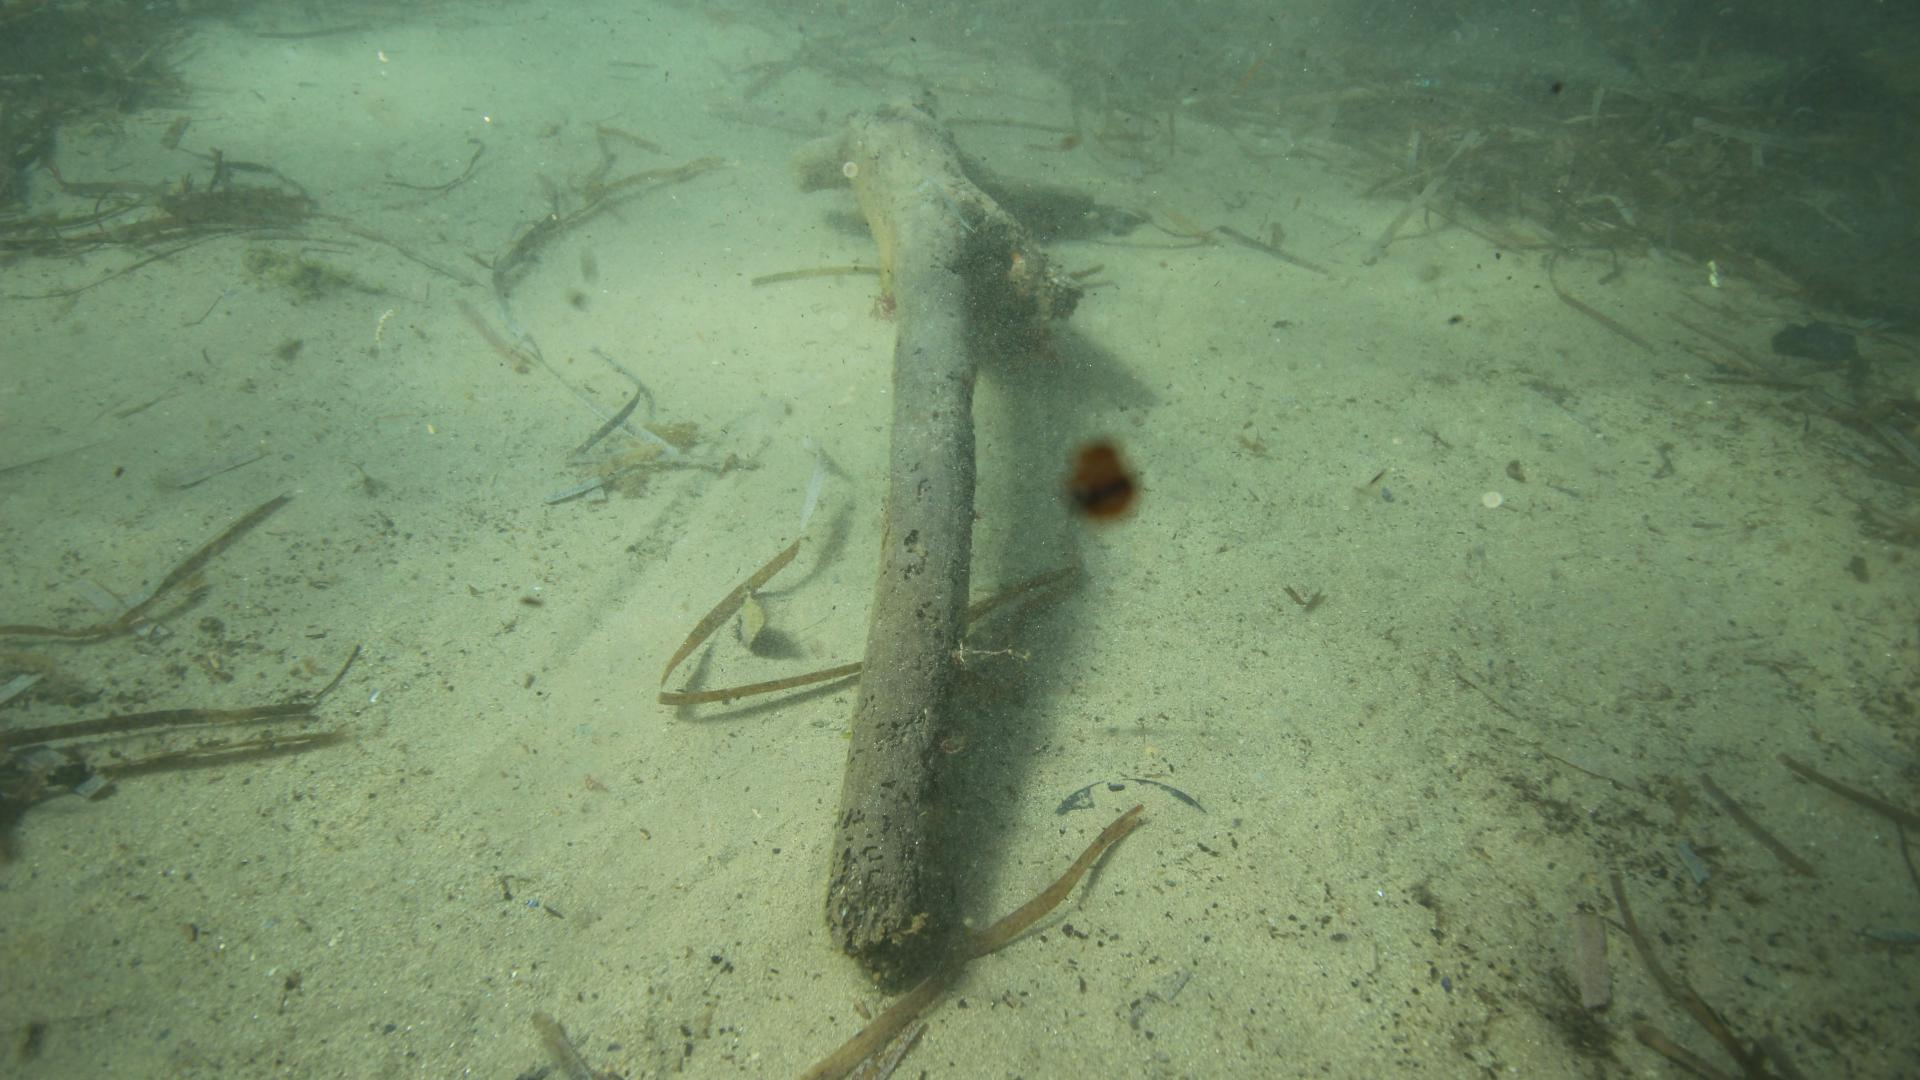wood: (793, 99, 1093, 992)
